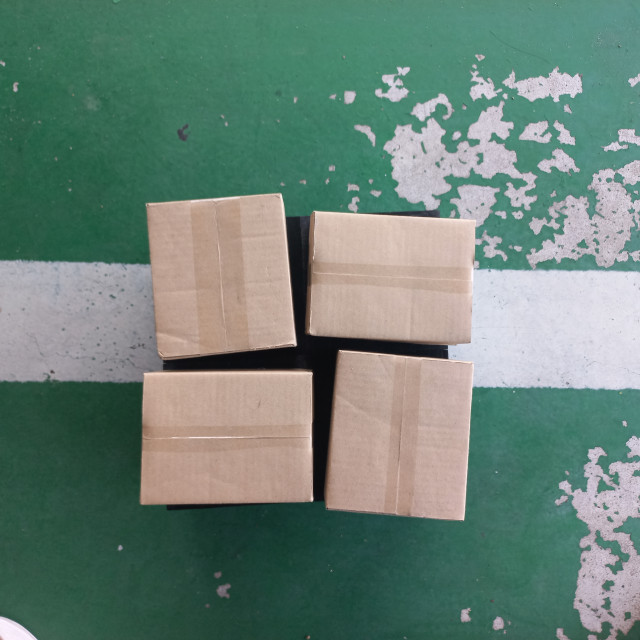box: (142, 188, 300, 366), (322, 346, 476, 526), (136, 366, 317, 509), (301, 207, 479, 349)
